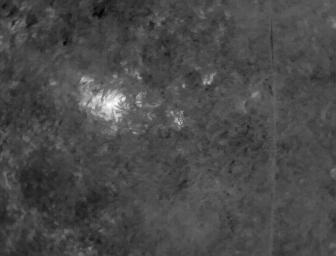landmine: (90, 86, 131, 123)
